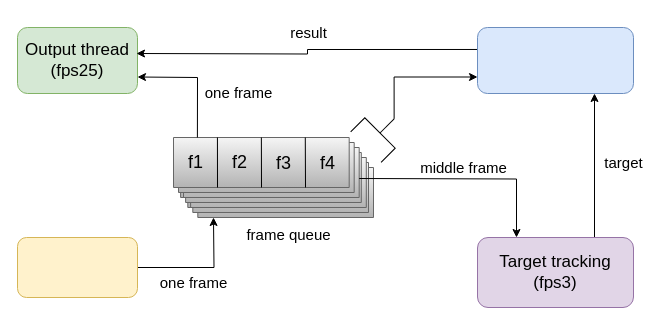
This 671x325 diagram has some shape labels left out. The shapes that lost their labels are listed below. From the top down, each one's box as (x1, y1, x2, y2) in pixels, then its label:
(476, 26, 634, 94): Action recognition (fps3)
(16, 236, 138, 298): Input thread (fps25)
